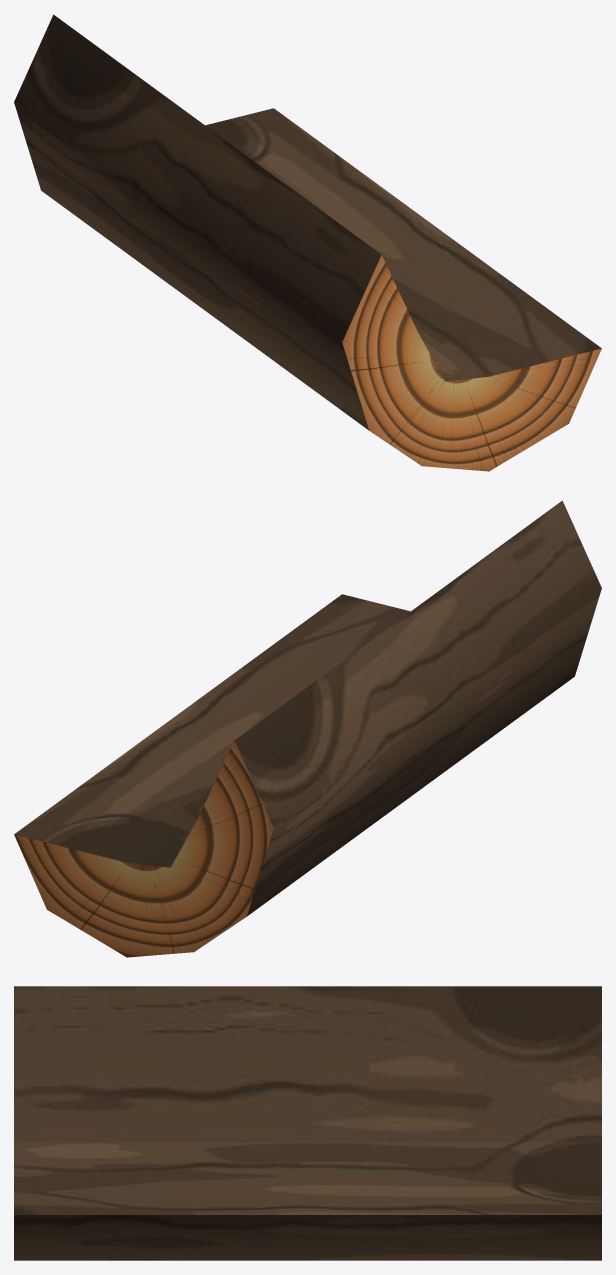
The model's file is LogBench.fbx.
3 renders of one model, top to bottom at view 1: azimuth 30°, elevation 25°; view 2: azimuth 150°, elevation 25°; view 3: azimuth 270°, elevation 25°, orthographic. The views are drawn at different scales.
Visible parts, largest first — view 1: LogBench; view 2: LogBench; view 3: LogBench.
Part boxes in pixels (x1=…): LogBench: x1=14, y1=14, x2=601, y2=471; LogBench: x1=14, y1=500, x2=601, y2=957; LogBench: x1=14, y1=986, x2=601, y2=1260.
Bounding box in the file's own units: 3.01 × 2.69 × 6.58.
